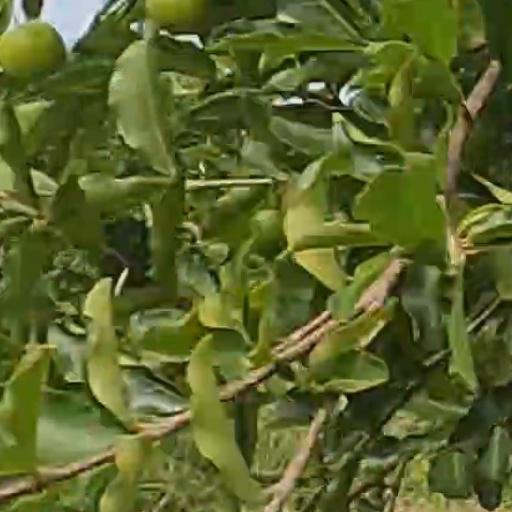acerola_verde: (1, 23, 64, 77)
